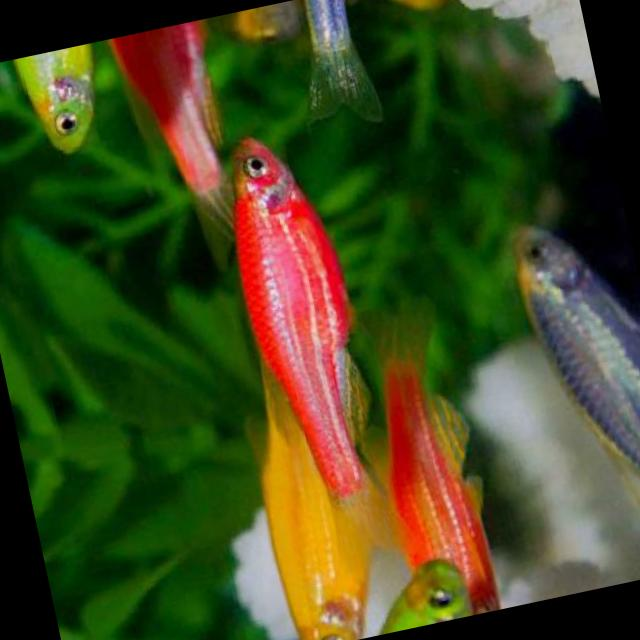ZebraFish: (208, 119, 386, 518)
